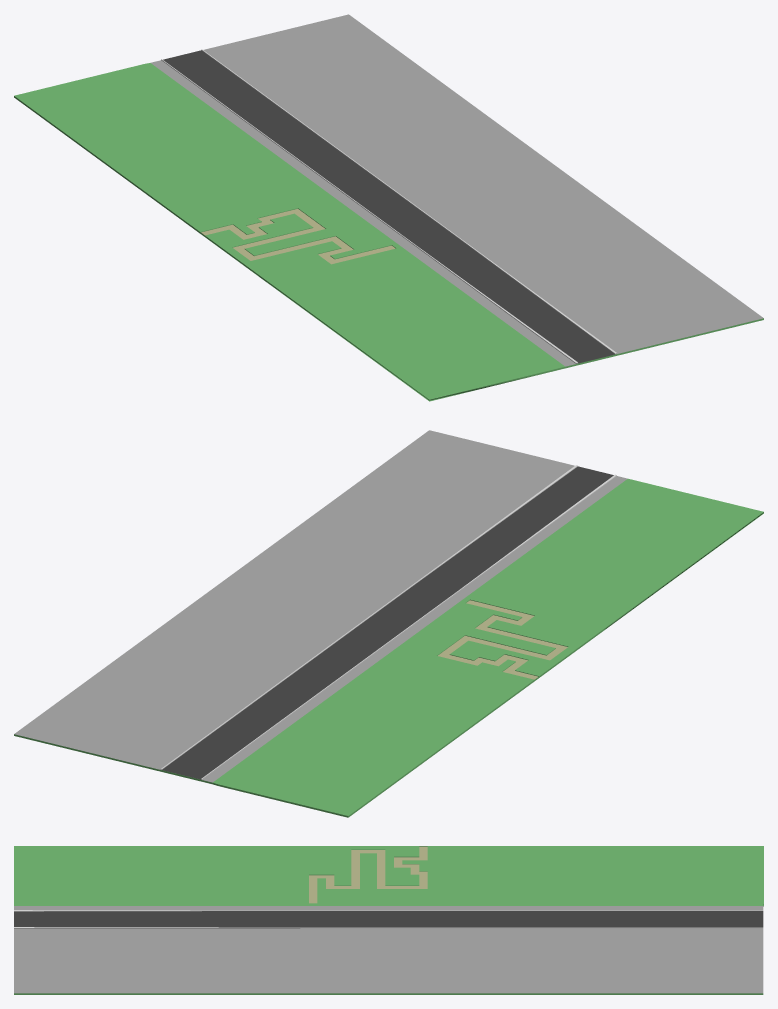
The model's file is Board.fbx.
3 renders of one model, top to bottom at view 1: azimuth 30°, elevation 25°; view 2: azimuth 150°, elevation 25°; view 3: azimuth 270°, elevation 25°, orthographic. The views are drawn at different scales.
Parts seen in each view (by area): view 1: polySurface4, southLawn, northLawn, Board; view 2: polySurface4, southLawn, northLawn, Board; view 3: polySurface4, southLawn, northLawn, Board.
Boxes of the visible parts, left/top/right/bottom form: polySurface4: left=14, top=14, right=763, bottom=401; southLawn: left=14, top=64, right=325, bottom=228; northLawn: left=271, top=252, right=559, bottom=399; Board: left=196, top=203, right=400, bottom=269; polySurface4: left=14, top=430, right=763, bottom=817; southLawn: left=218, top=651, right=529, bottom=815; northLawn: left=475, top=480, right=763, bottom=627; Board: left=424, top=596, right=581, bottom=682; polySurface4: left=14, top=846, right=763, bottom=994; southLawn: left=436, top=846, right=763, bottom=903; northLawn: left=14, top=846, right=300, bottom=903; Board: left=300, top=846, right=436, bottom=903.
Bounding box in the file's own units: 203 × 1.5 × 436.
